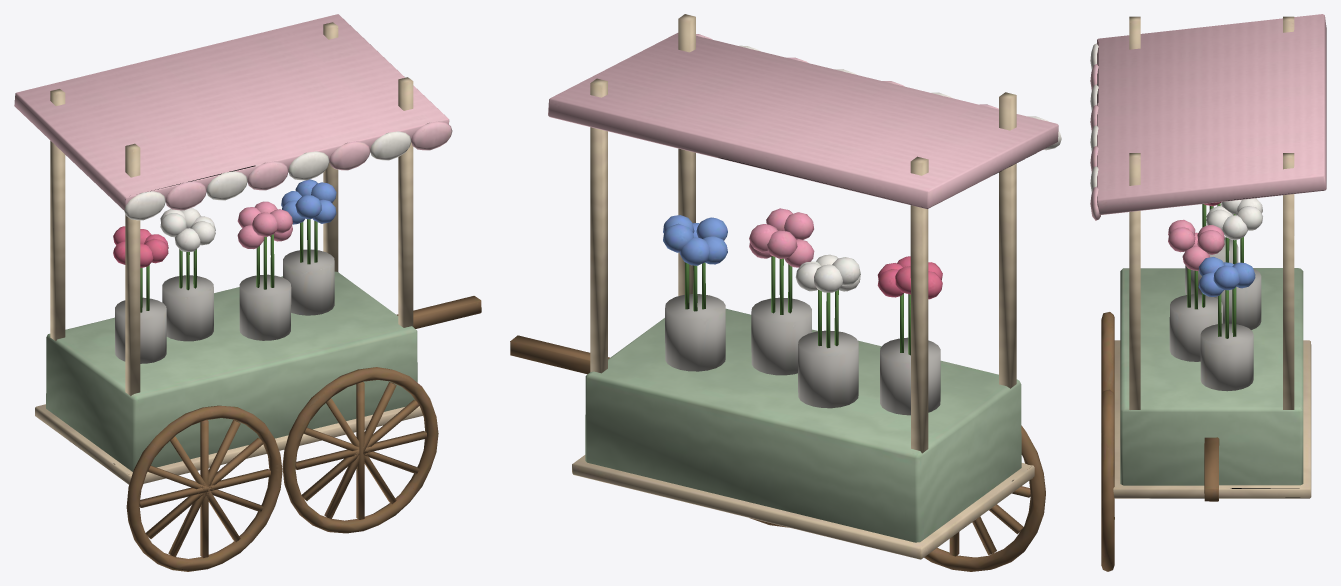
File: keepsake-flower-shop.glb
3 renders of one model, left to right at view 1: azimuth 30°, elevation 25°; view 2: azimuth 150°, elevation 25°; view 3: azimuth 270°, elevation 25°, orthographic. The views are drawn at different scales.
Parts seen in each view (by area): view 1: keepsake-flower-shop; view 2: keepsake-flower-shop; view 3: keepsake-flower-shop.
Part boxes in pixels (box(x1,y1,x2,y2)): keepsake-flower-shop: box(14, 14, 481, 571); keepsake-flower-shop: box(510, 14, 1061, 571); keepsake-flower-shop: box(1090, 14, 1326, 571).
Bounding box in the file's own units: 0.6032 × 0.6 × 0.2938.
Materials: 1 (1 with a texture image).
